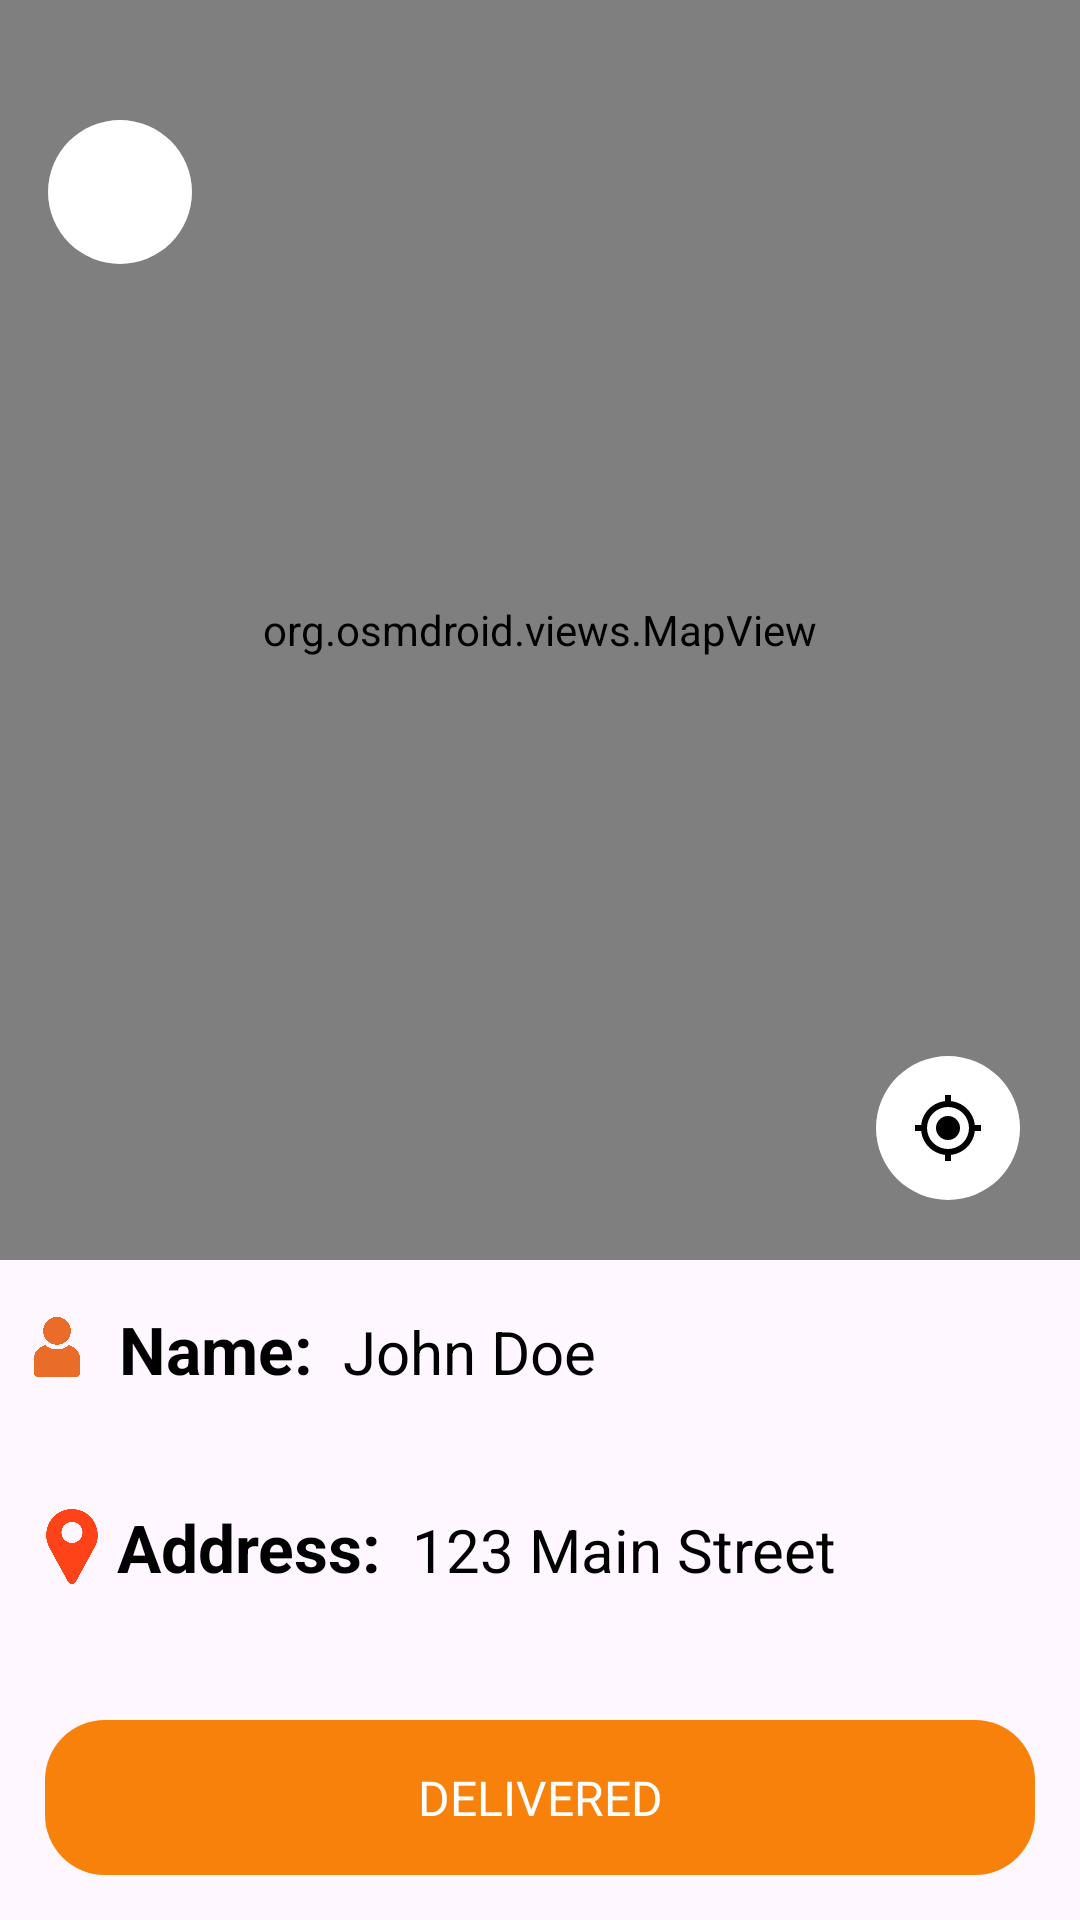

Icon bounding boxes for this 1080×1920 phone screenshot, format BBox(x1, y1, x2, y2):
crosshairs gps: BBox(876, 1056, 1020, 1200)
location drop: BBox(46, 1509, 98, 1584)
person: BBox(34, 1317, 80, 1377)
